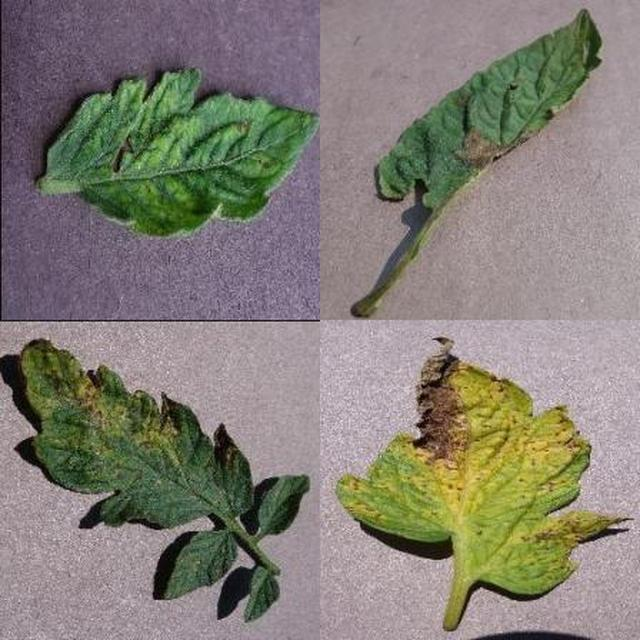Mosaic Virus Leaf: (195, 155, 640, 640)
